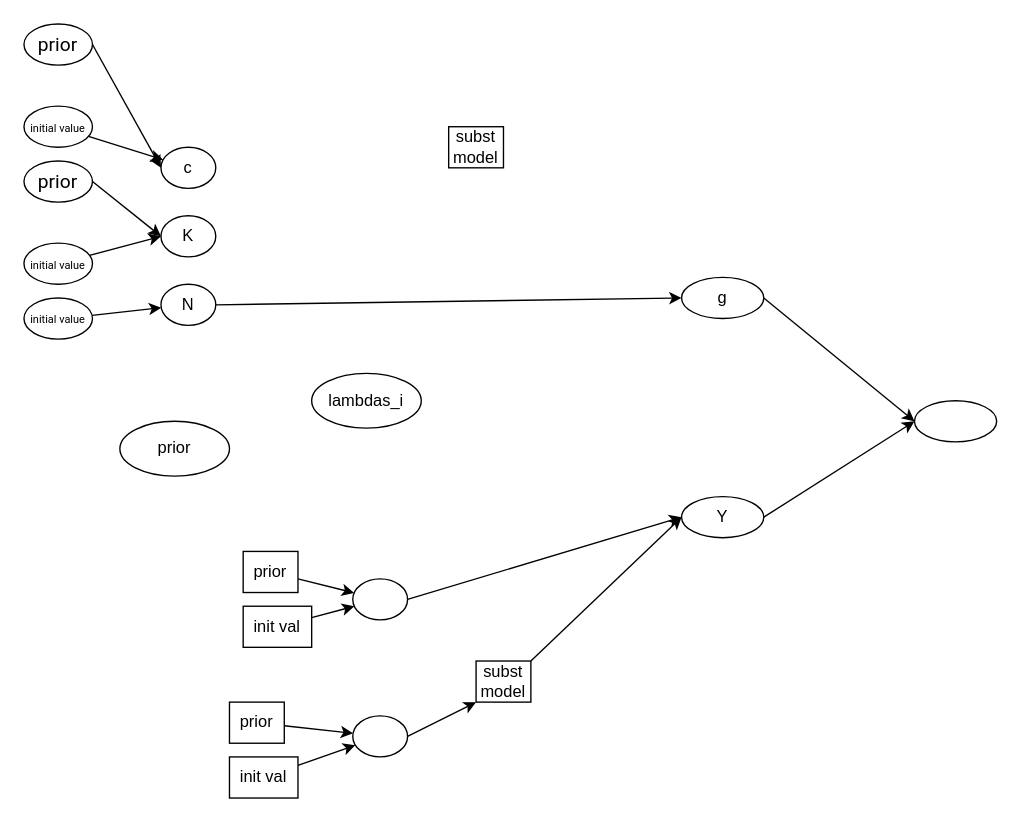
Image size: 1021x822. Some labels were removed from this diagram. The centre of each missing label's shape, as x and y in pixels:
alpha: point (379, 598)
mu: point (379, 735)
post: point (955, 420)
